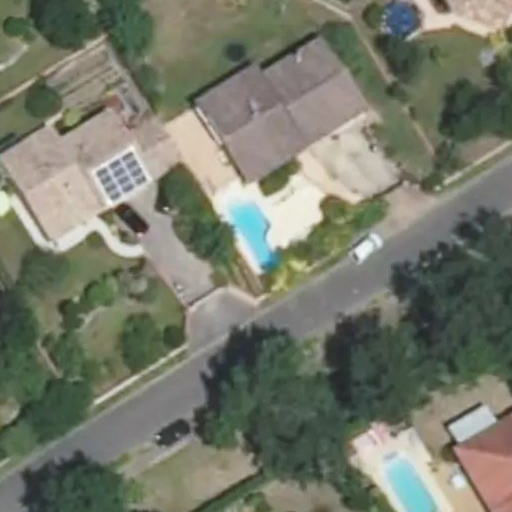pool: (230, 202, 278, 267), (384, 458, 436, 512)
